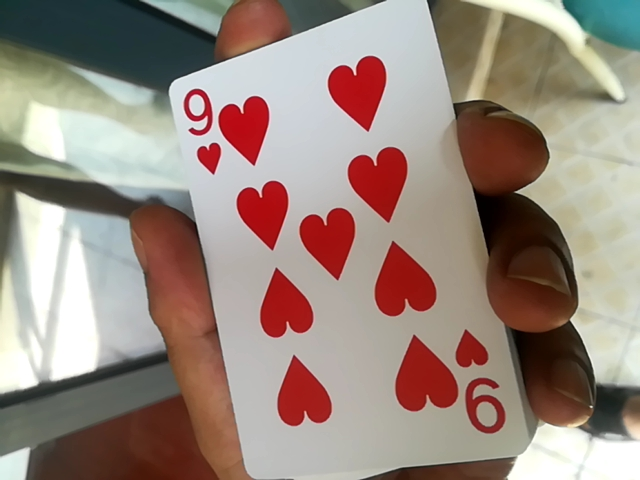hx 9: (175, 9, 519, 475)
